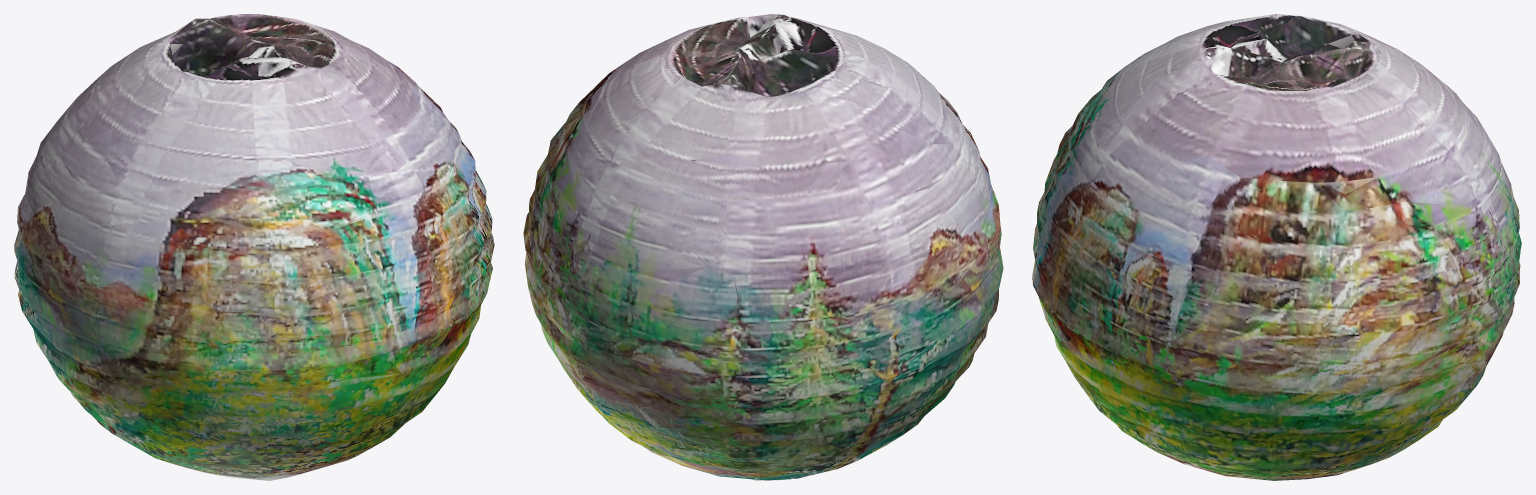
Rendered from AH3 ChanLim Landscape13.glb.
3 renders of one model, left to right at view 1: azimuth 30°, elevation 25°; view 2: azimuth 150°, elevation 25°; view 3: azimuth 270°, elevation 25°, orthographic.
Size of the model in its own units: 990 by 952 by 1000.
Materials: 1 (1 with a texture image).
